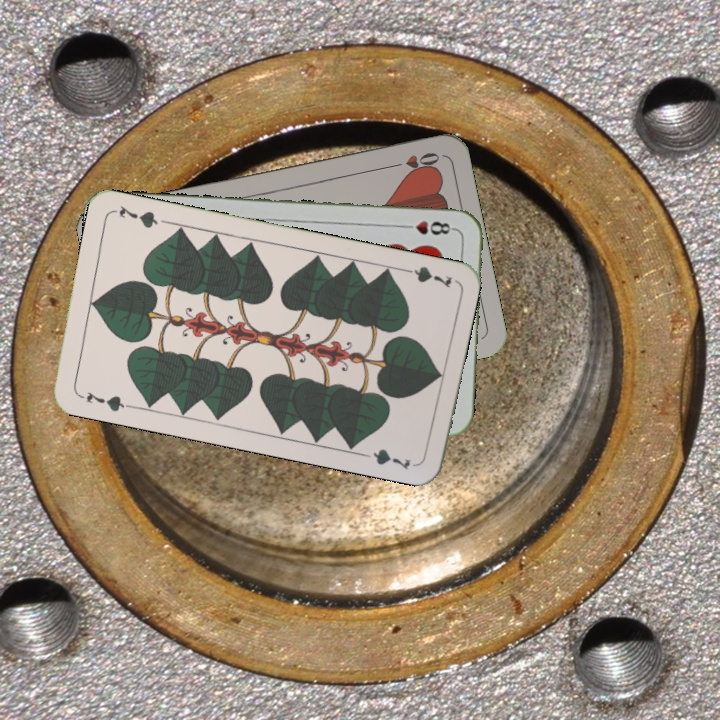G7: (396, 262, 455, 291), (75, 387, 133, 415)
H8: (398, 217, 457, 238)
HO: (385, 148, 443, 175)
